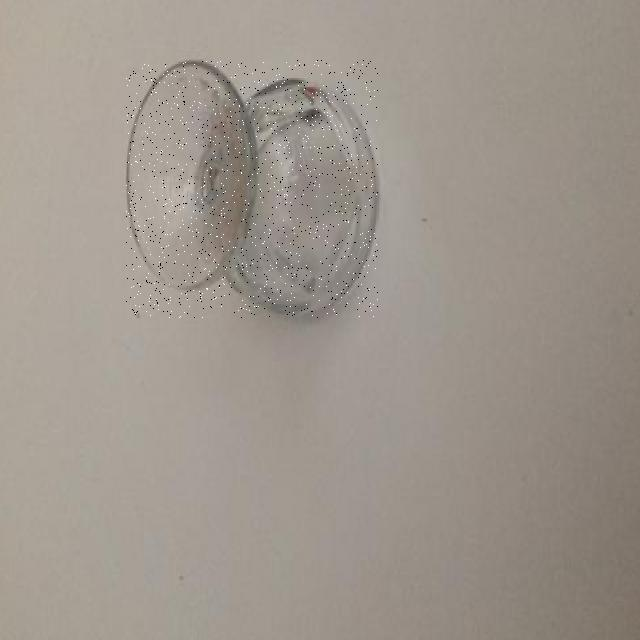glass: (126, 61, 378, 318)
